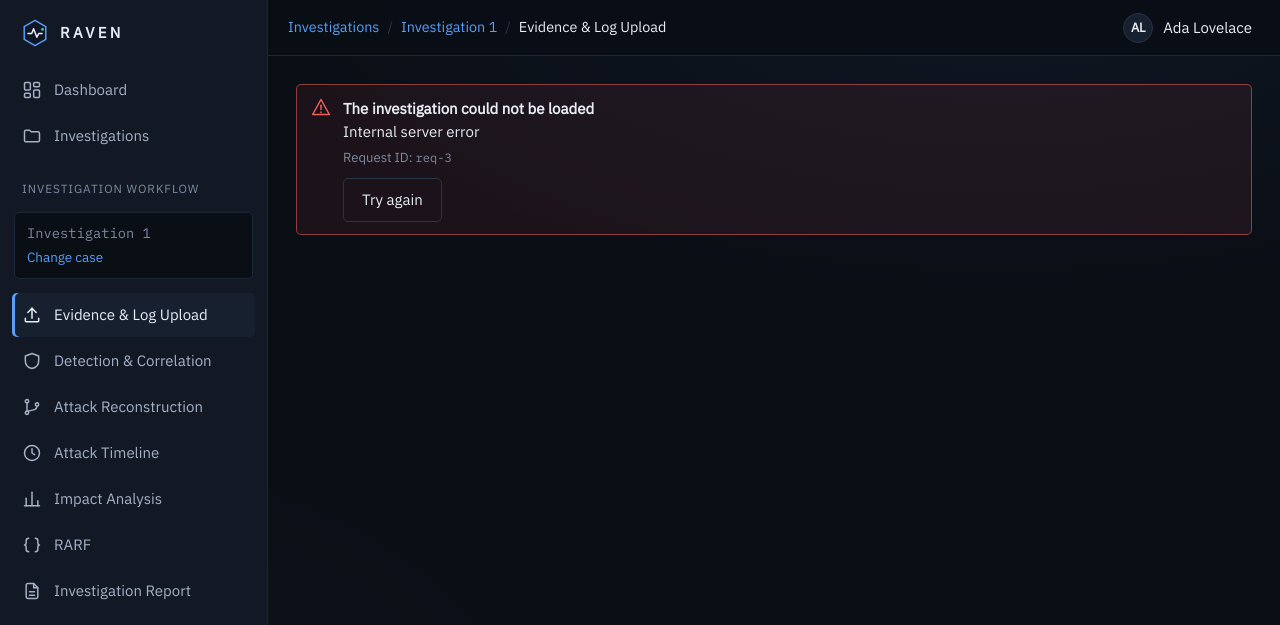
it: an investigation that cannot be shown › shows another error with a retry
The width and height of the screenshot is (1280, 625).
Expected: the message shows "The investigation could not be loaded", [343,99,594,118]
Click the button "Try again".
click(392, 200)  # box [343,178,442,222]
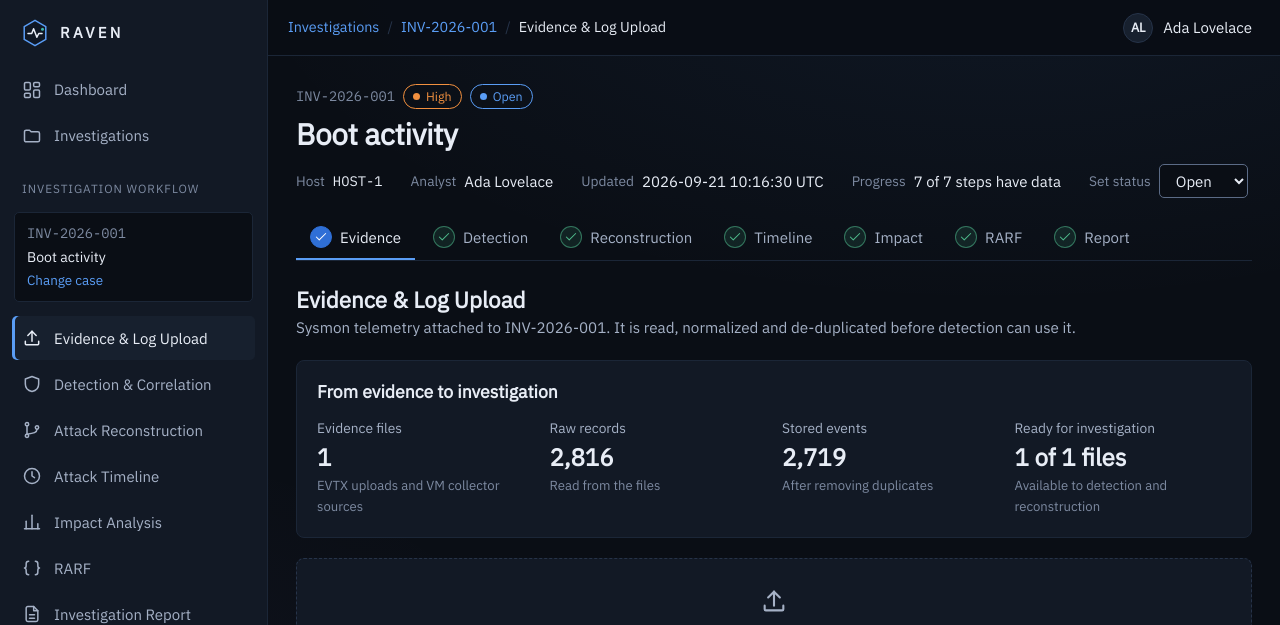
Result: the heading "Boot activity" is shown at [296,115,458,153]
